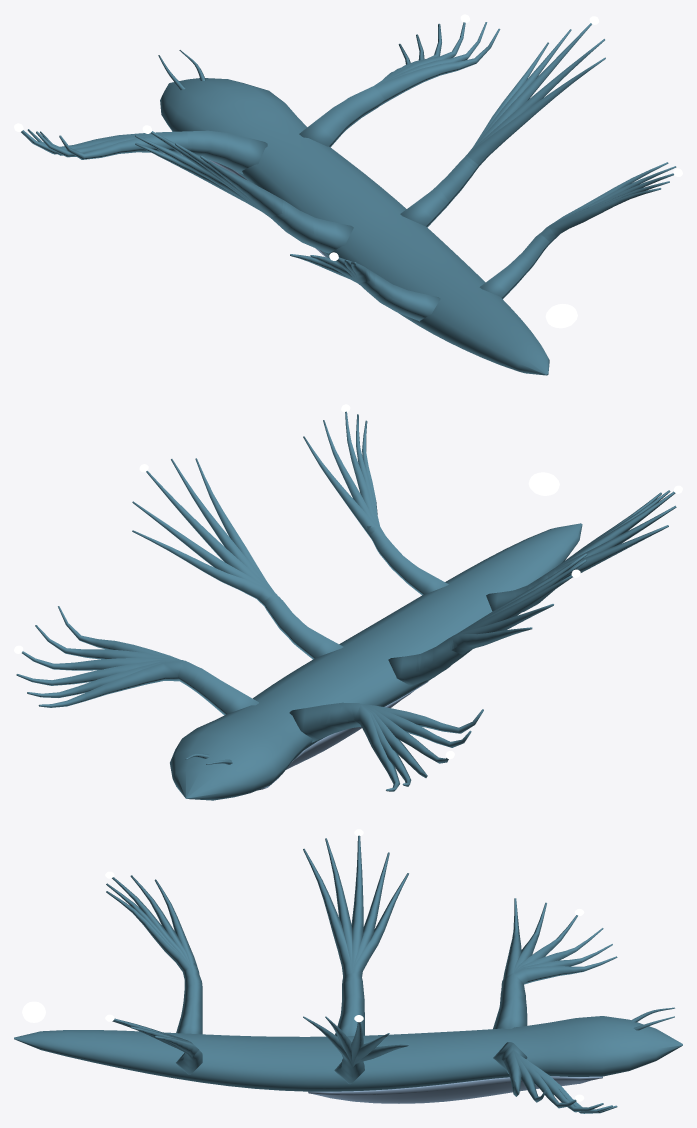
3 views of the same model, one above another, from view 1: azimuth 30°, elevation 25°; view 2: azimuth 150°, elevation 25°; view 3: azimuth 270°, elevation 25° (orthographic). The views are drawn at different scales.
Visible parts, largest first — view 1: RIMWARD_HULL, RIMWARD_ENGINE_GLOW; view 2: RIMWARD_HULL; view 3: RIMWARD_HULL.
Part boxes in pixels (x1,y1,x2,y2): RIMWARD_HULL: [21, 22, 676, 375]; RIMWARD_ENGINE_GLOW: [545, 304, 577, 328]; RIMWARD_HULL: [16, 411, 676, 800]; RIMWARD_HULL: [14, 835, 682, 1113].
Bounding box in the file's own units: 7.37 × 3.26 × 11.
